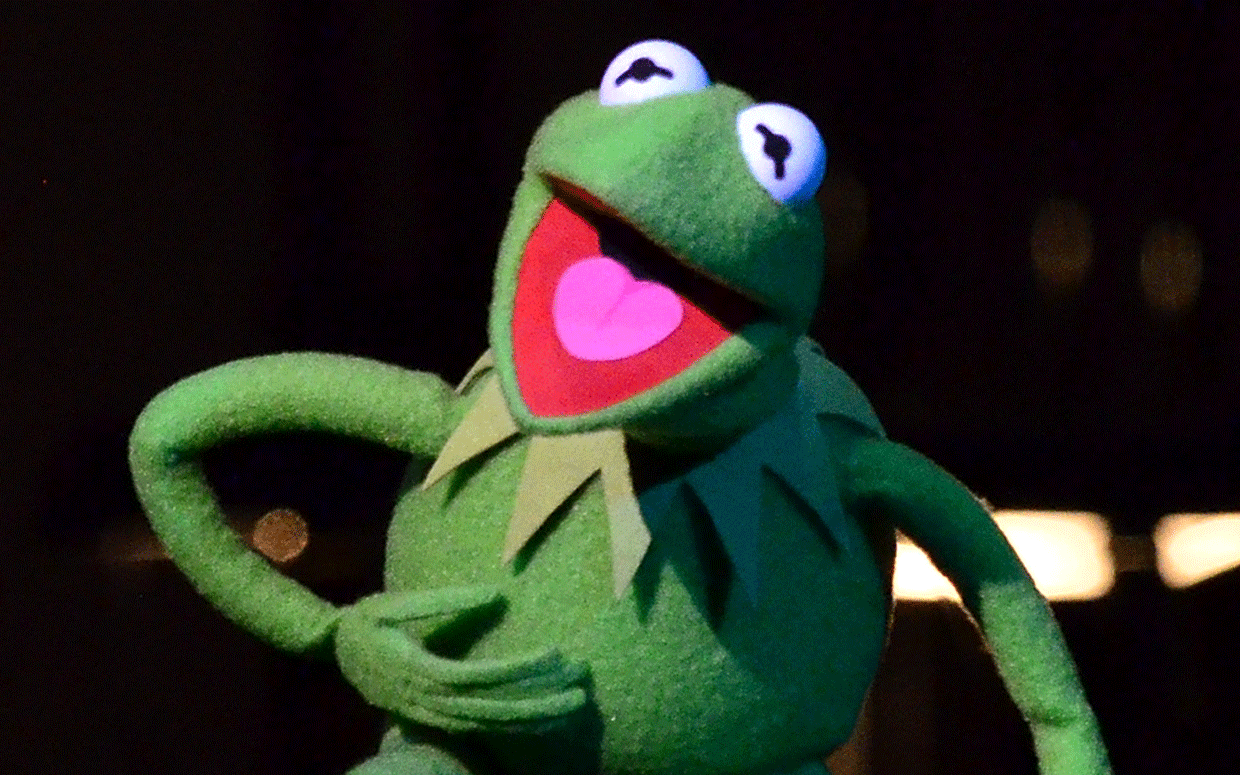kermit: (482, 31, 817, 446)
